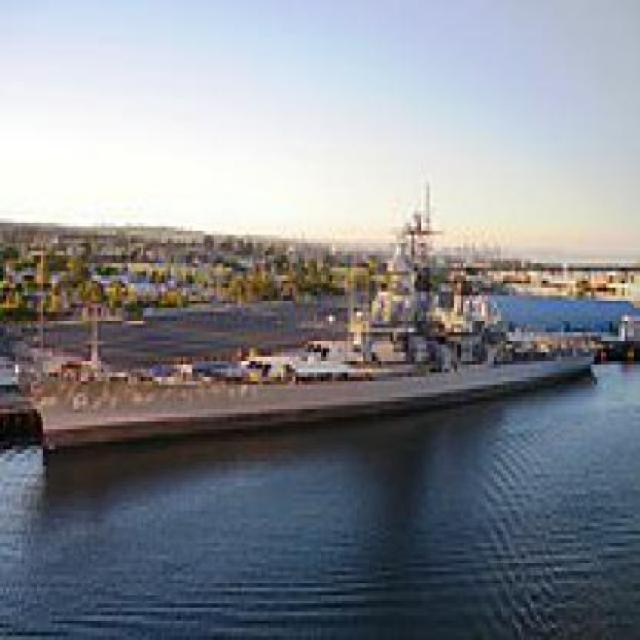warship2: (19, 200, 617, 463)
